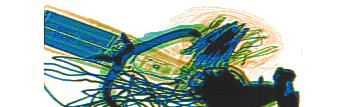battery: (42, 8, 119, 65)
